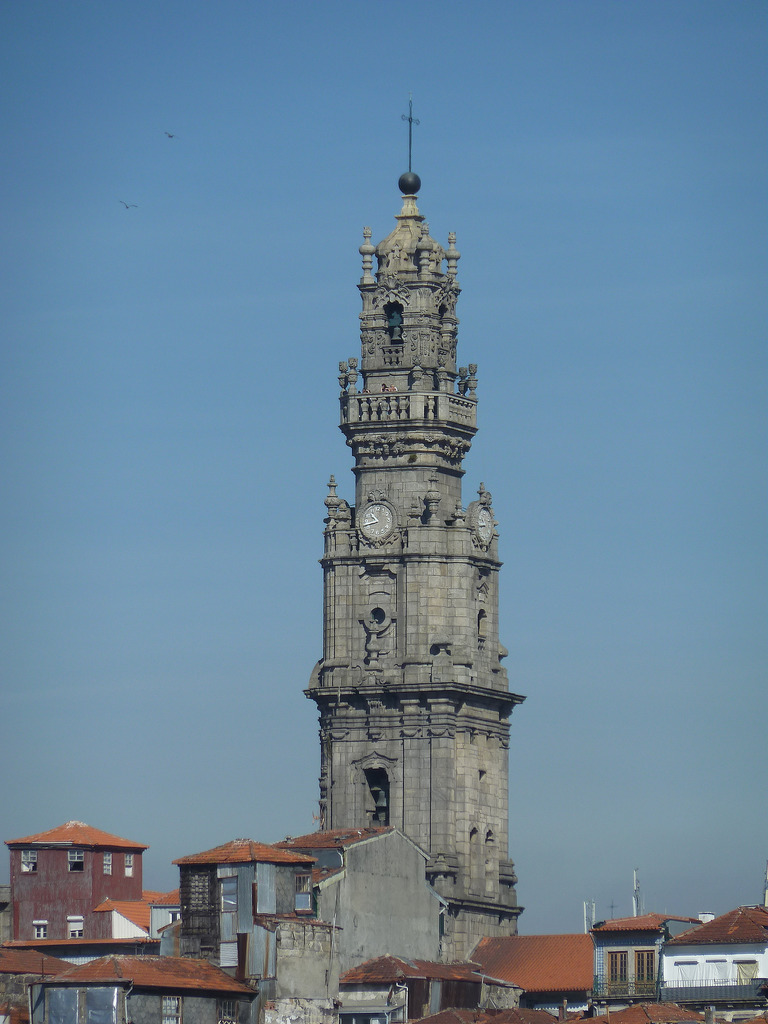clerigos: (301, 86, 528, 940)
